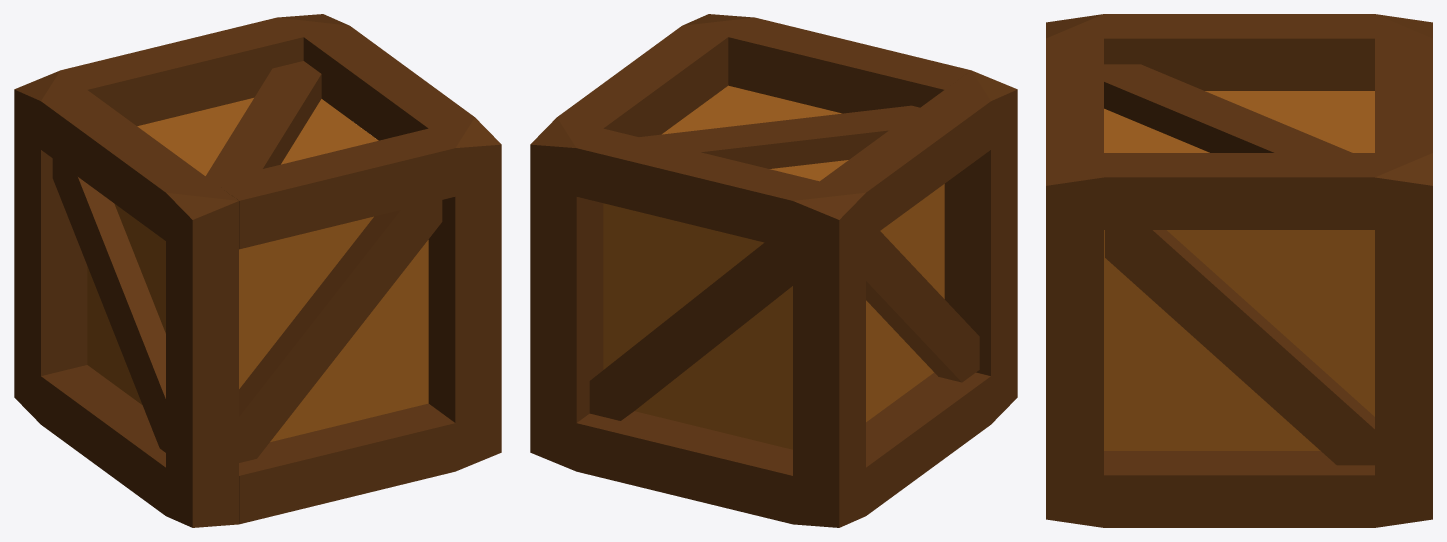
The model's file is crate_lod0.fbx.
3 views of the same model, side by side, from view 1: azimuth 30°, elevation 25°; view 2: azimuth 150°, elevation 25°; view 3: azimuth 270°, elevation 25° (orthographic). The views are drawn at different scales.
Parts seen in each view (by area): view 1: Crate_LOD0; view 2: Crate_LOD0; view 3: Crate_LOD0.
Boxes of the visible parts, x1=… form: Crate_LOD0: x1=14, y1=14, x2=501, y2=527; Crate_LOD0: x1=530, y1=14, x2=1017, y2=527; Crate_LOD0: x1=1046, y1=14, x2=1432, y2=527.
Size of the model in its own units: 78.99 by 78.98 by 78.99.
Materials: 1 (1 with a texture image).
